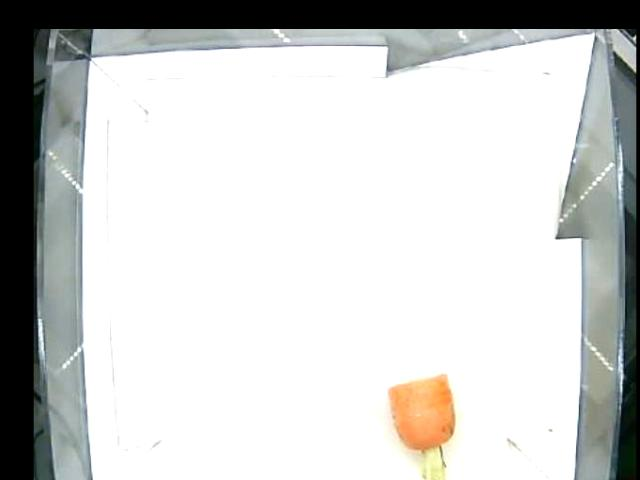Carrot: (387, 371, 463, 480)
